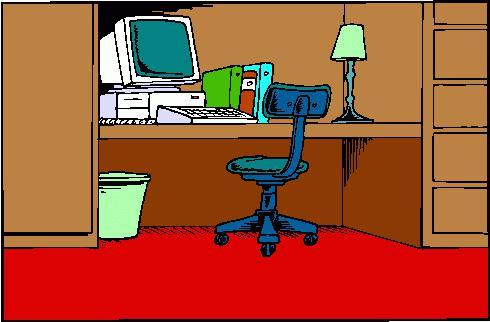chair: (206, 82, 339, 252)
tvmonitor: (107, 16, 204, 88)
